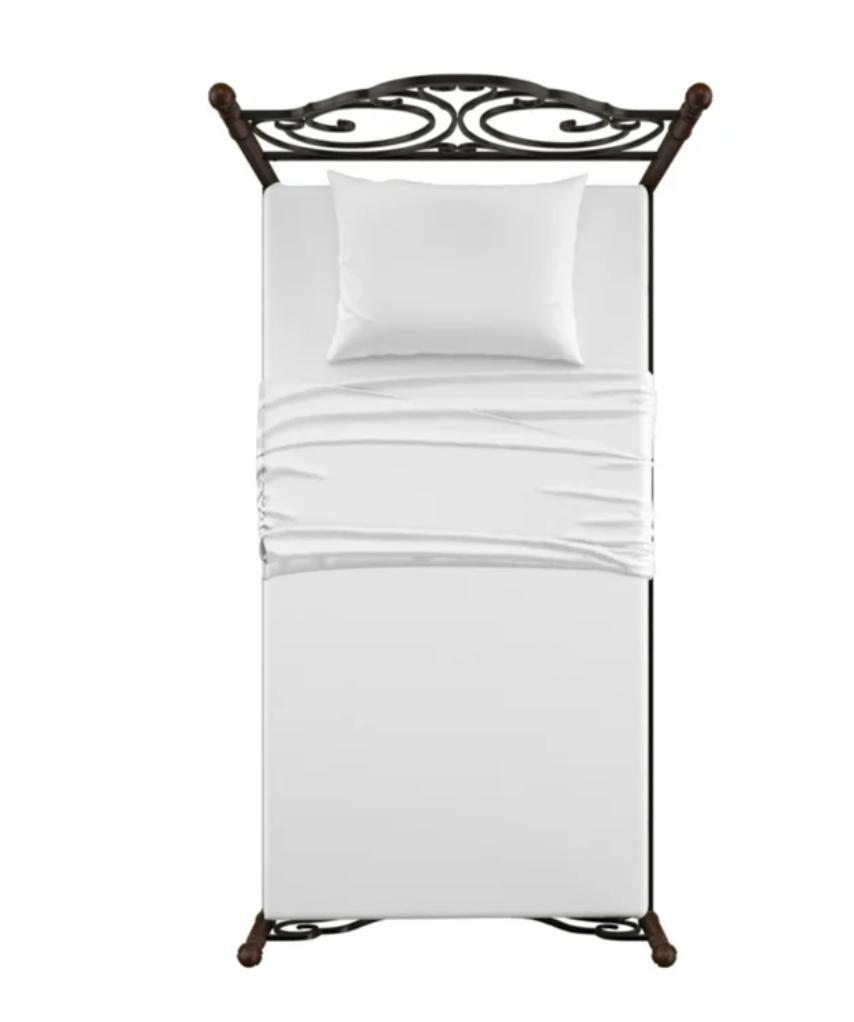Bed-Mattress: (204, 64, 728, 984)
